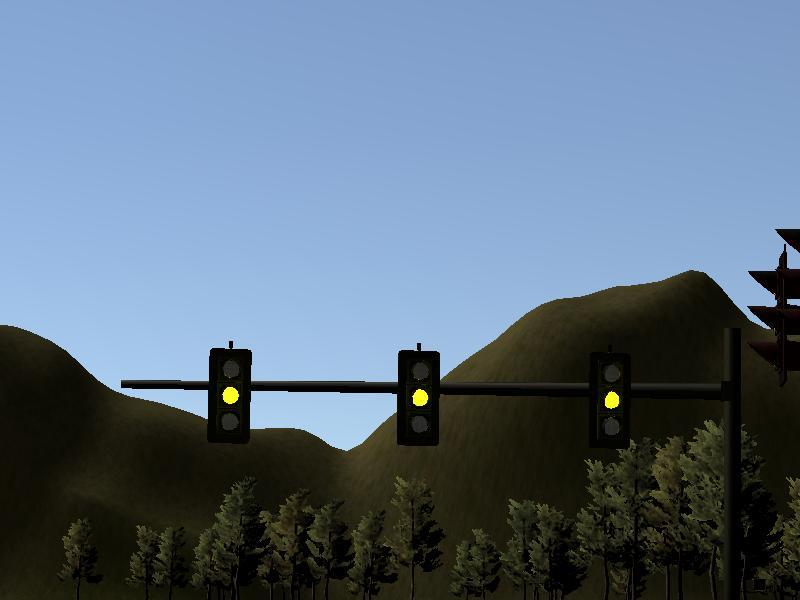Yellow: (589, 351, 631, 448), (209, 348, 251, 444), (398, 350, 439, 445)
